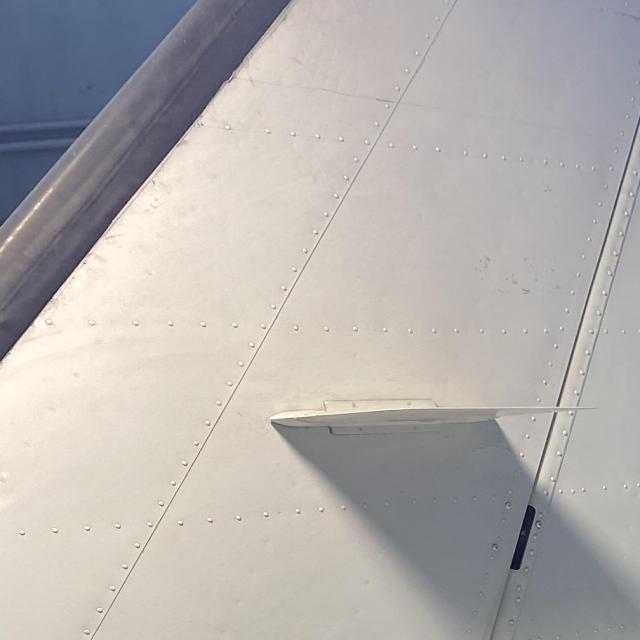Paint-off: (469, 232, 584, 293)
